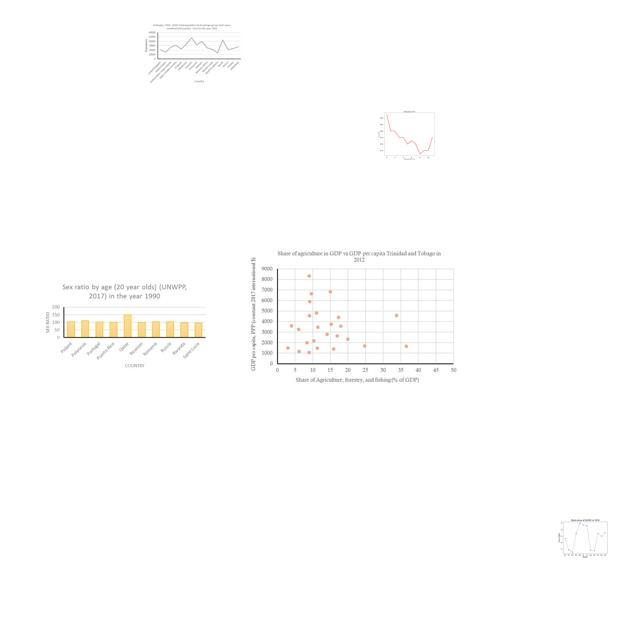Graph: (246, 243, 459, 386), (40, 279, 209, 372), (141, 22, 243, 83), (368, 106, 449, 162), (556, 516, 613, 559)
